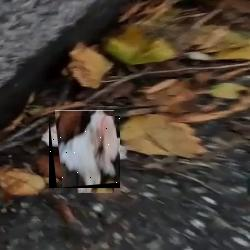restaffald: (49, 116, 120, 188)
